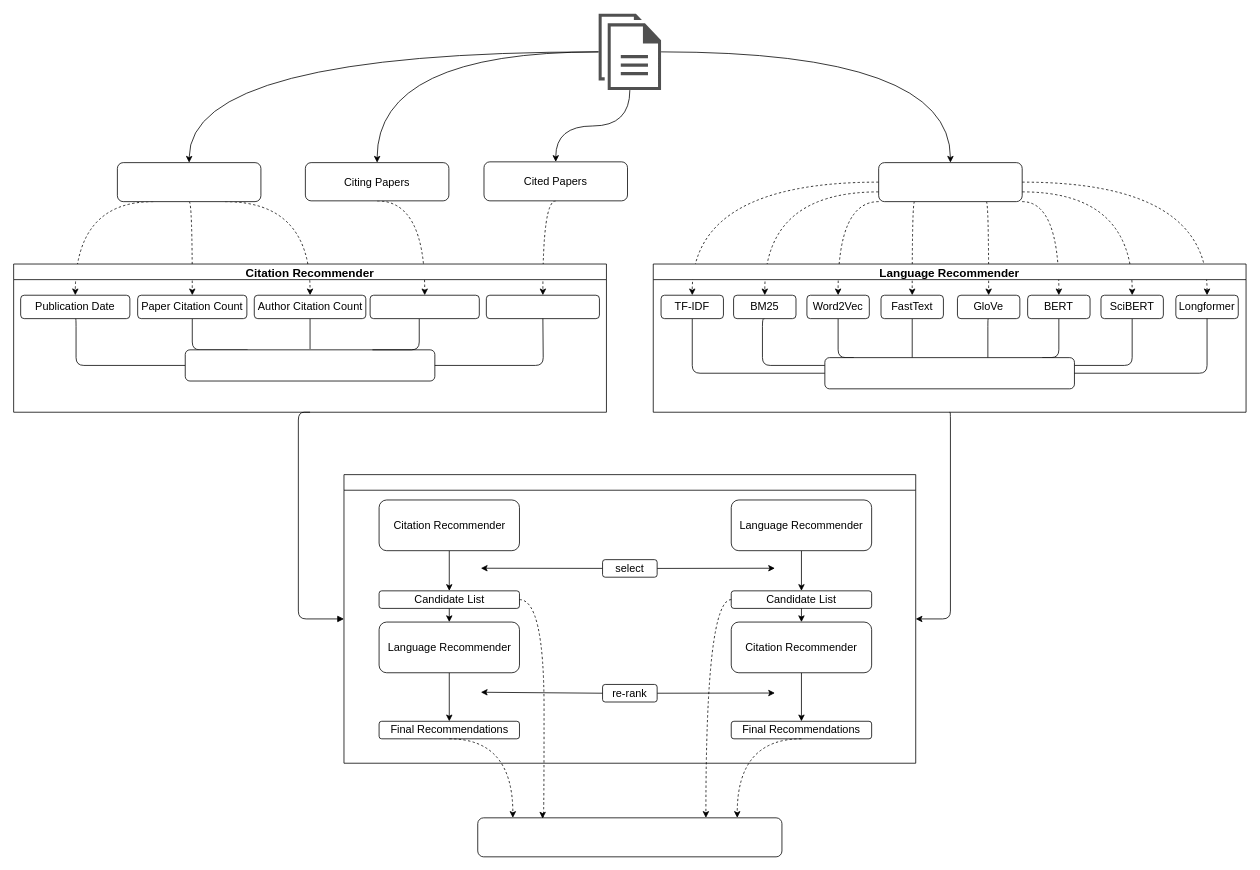
Image size: 1260x870. Some labels were removed from this diagram. Here are the shapes that lost their labels. From the top down, the box of each, then its label:
(117, 162, 261, 202): Metadata
(878, 162, 1022, 202): Abstract
(369, 294, 479, 319): Co-Citation Analysis
(486, 294, 599, 319): Bibliographic Coupling
(184, 349, 435, 381): Feature Weighting
(824, 357, 1074, 389): Choose One
(343, 474, 916, 763): Hybrid Recommender
(477, 817, 782, 857): Mean Average Precision
